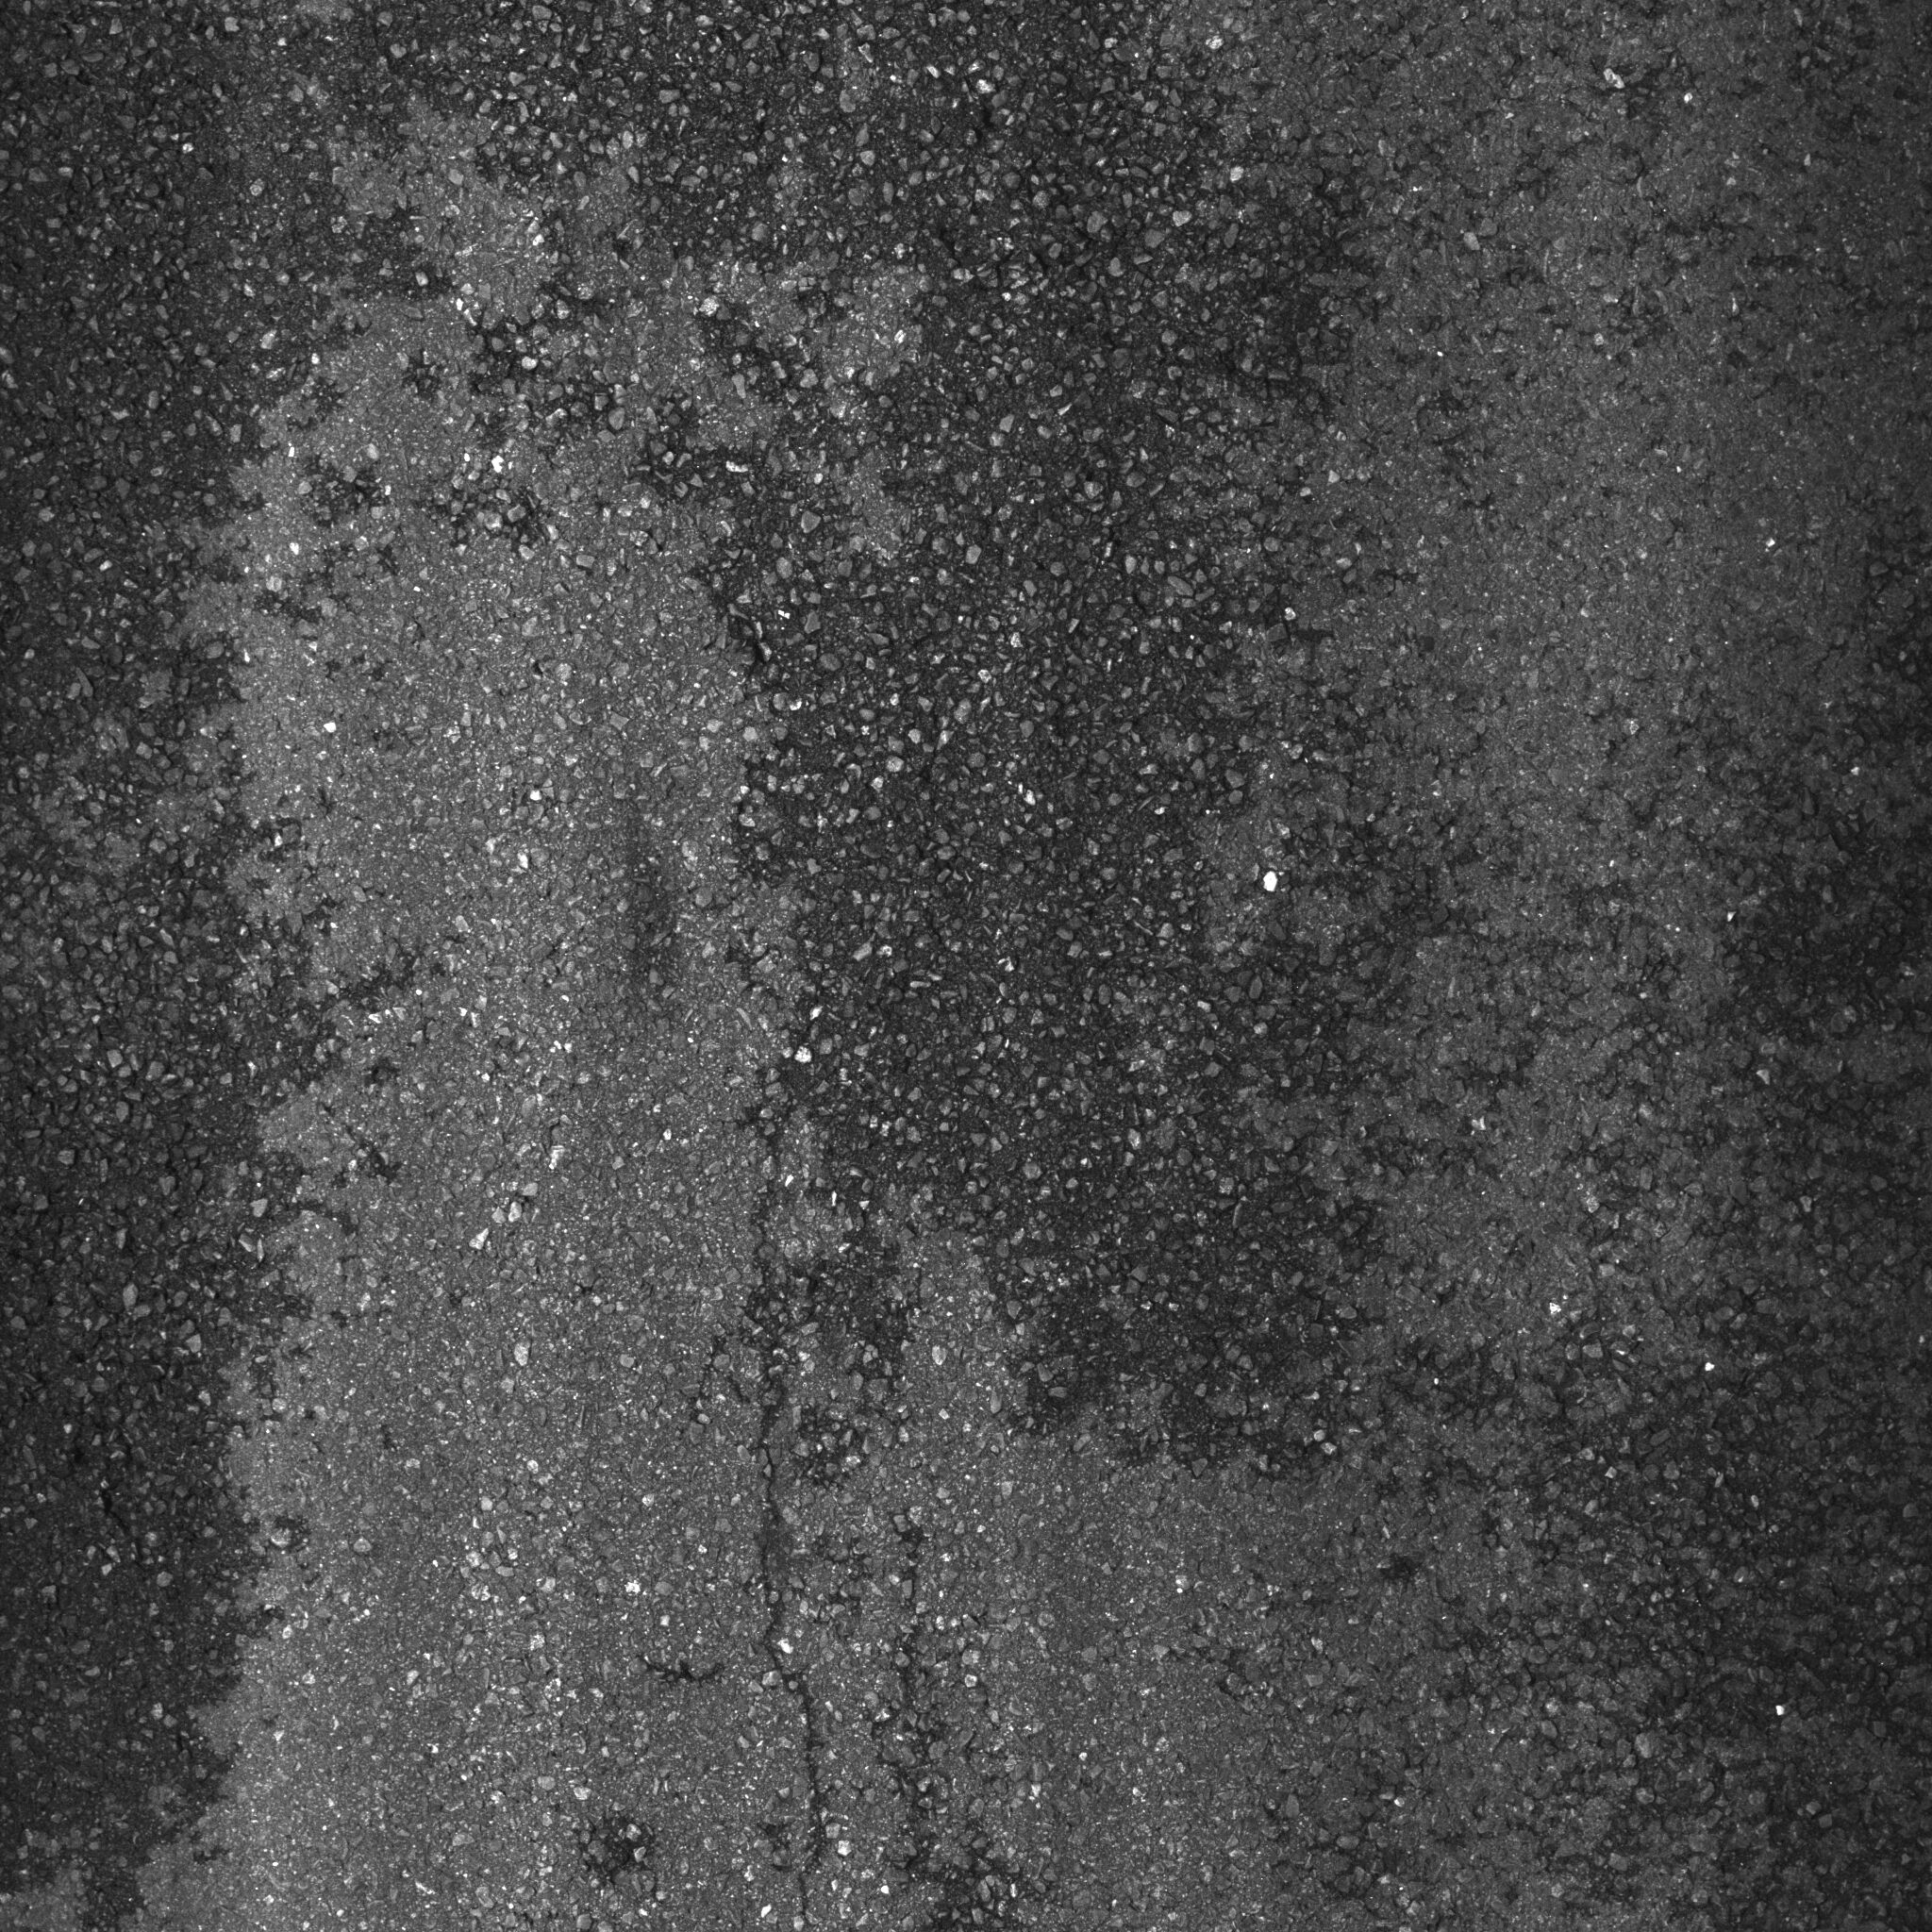longitudinal: (621, 488, 955, 1904)
